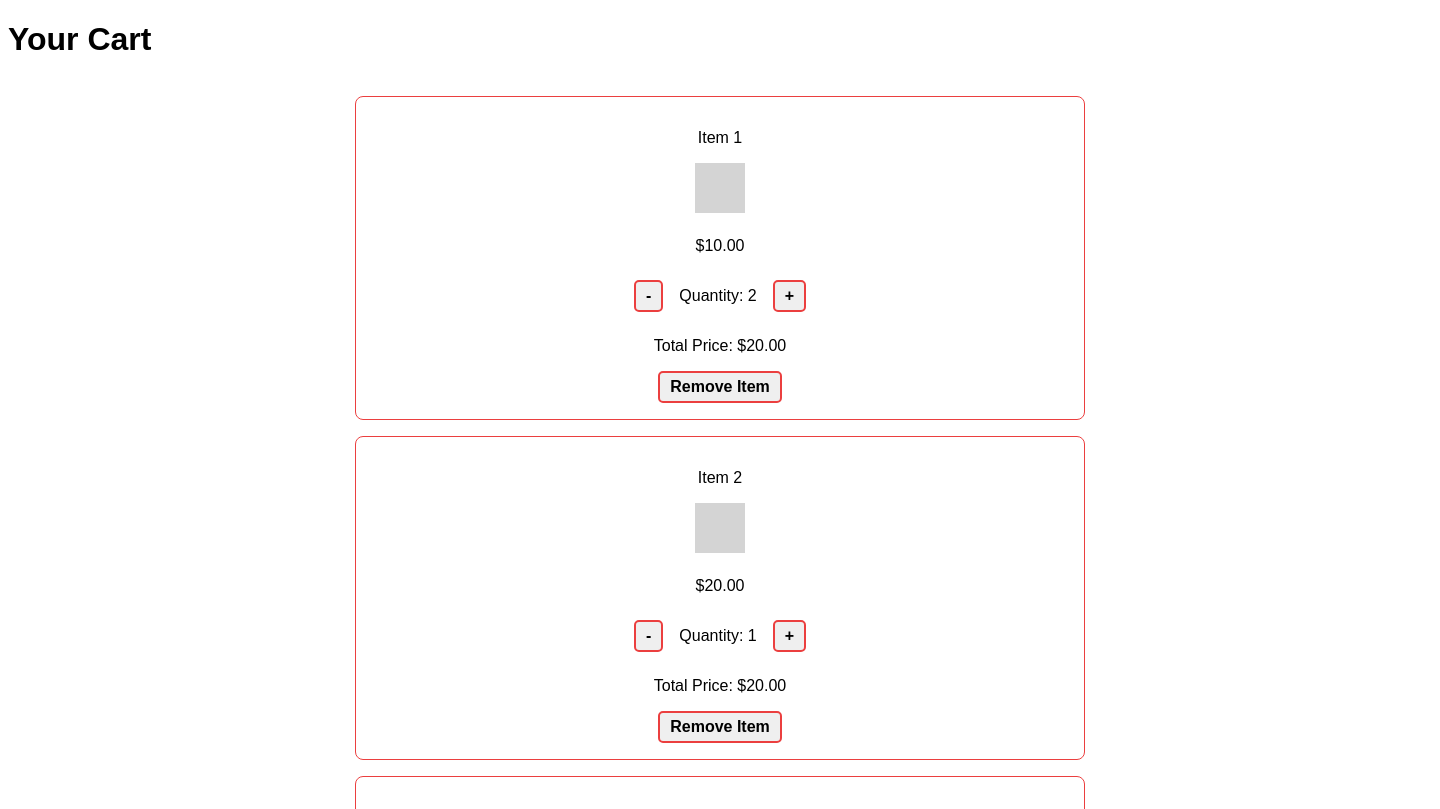
Test: Cart › increments an item quantity and updates the total amount
The width and height of the screenshot is (1440, 809).
Click the button "+" below "10.00": (789, 296) [773, 280, 806, 312]
(page scrolled)
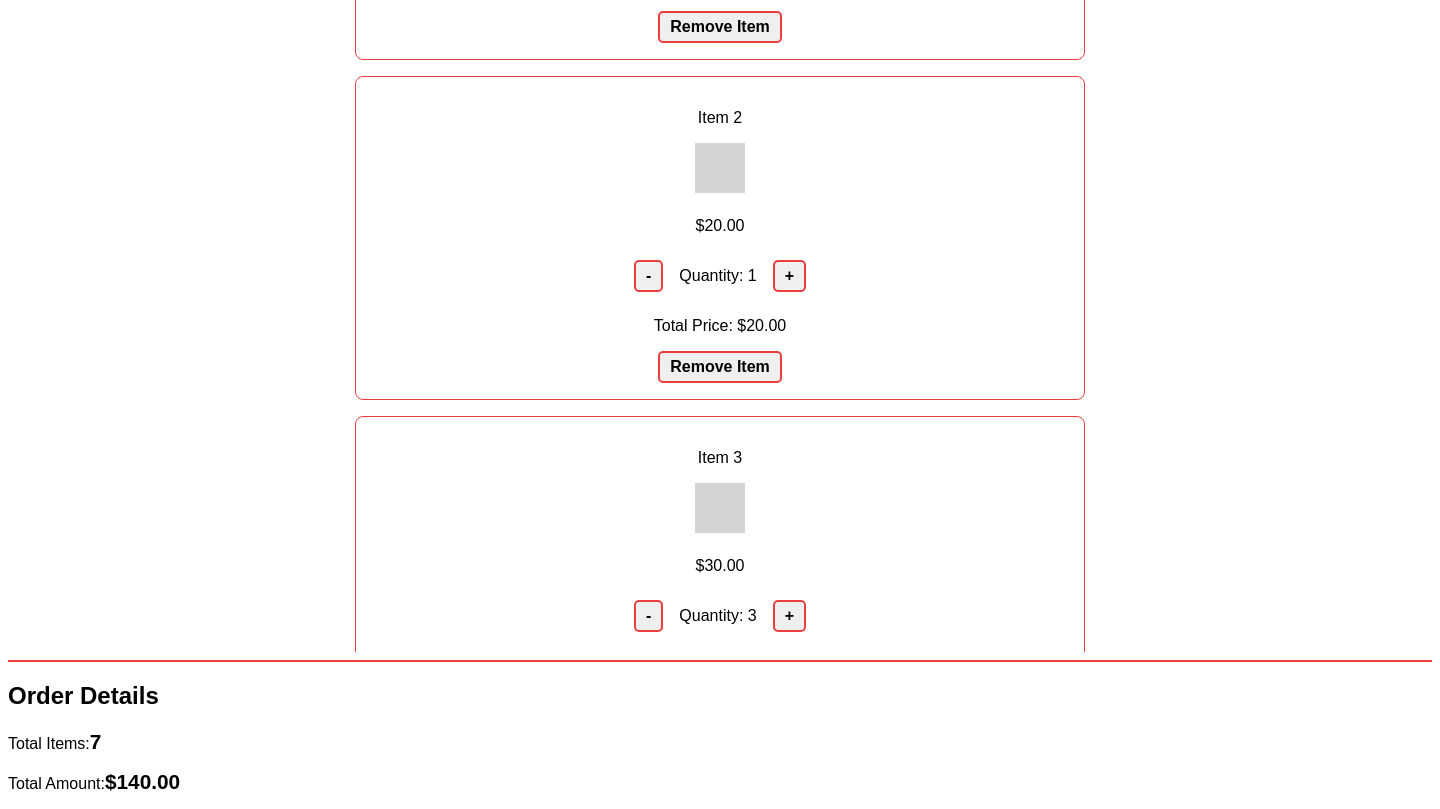
Result: the text "$140.00" is shown at [105, 770, 180, 793]
